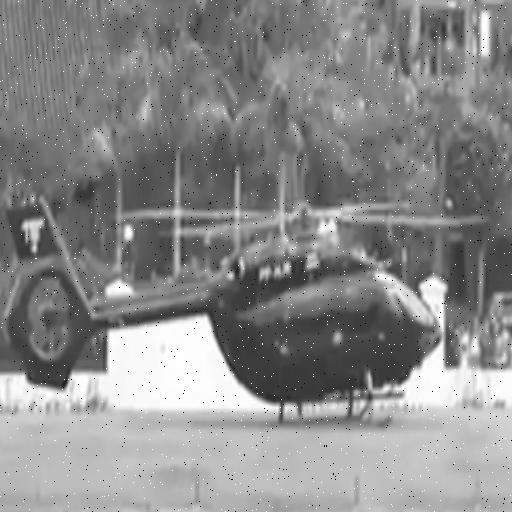helicopter: (1, 187, 487, 439)
